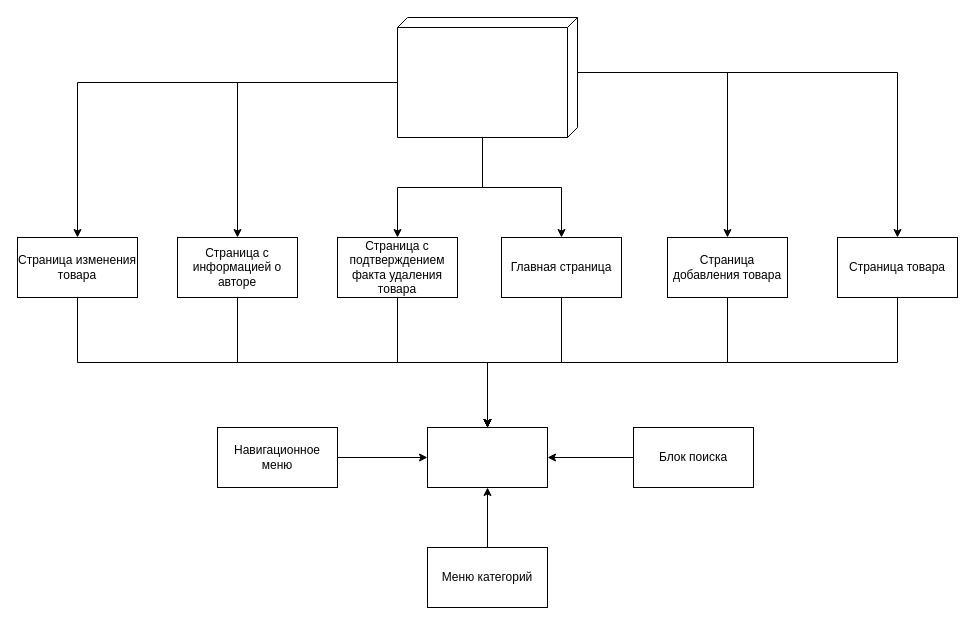
Some shapes in this 975 by 625 pixel diagram are drawn without their labels. Here are the shapes that lost their labels. From the top down, the centre of each, then its label:
point (487, 77): FrontEnd
point (487, 457): Главный компонент
